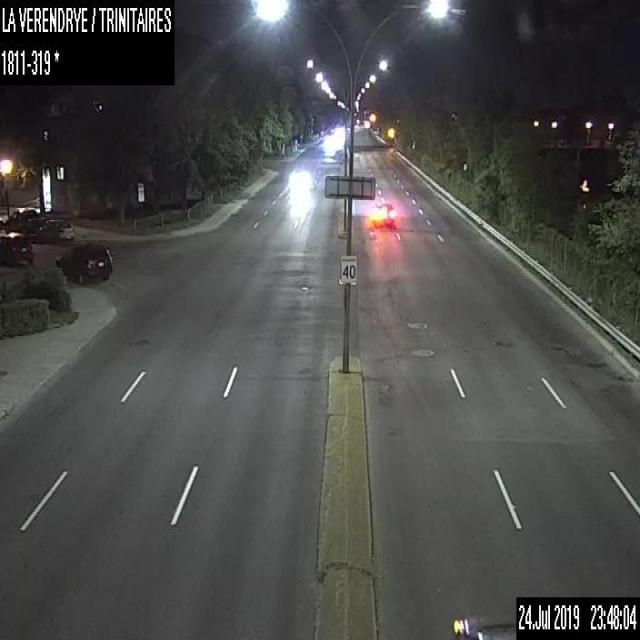vehicle: (54, 242, 114, 286), (448, 616, 516, 639), (5, 206, 50, 233), (0, 231, 35, 265), (37, 219, 73, 243), (371, 200, 394, 227), (288, 168, 311, 189)
